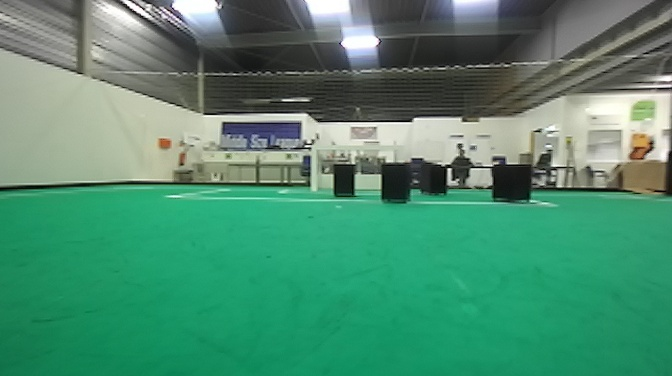goalpost: (307, 144, 317, 192), (392, 148, 398, 163)
